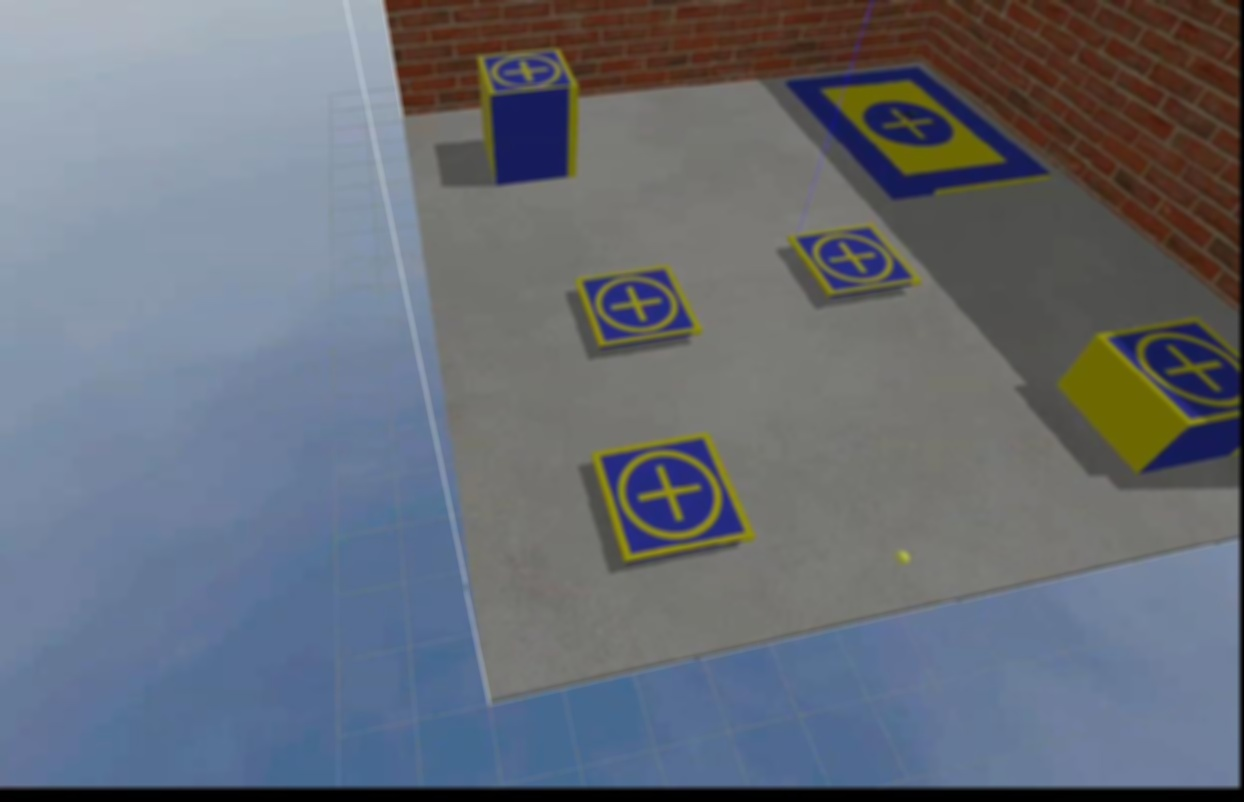large_base: (791, 64, 1049, 205)
small_base: (592, 432, 751, 564), (1098, 317, 1240, 429), (573, 268, 704, 353), (791, 225, 919, 302), (480, 47, 578, 102)
